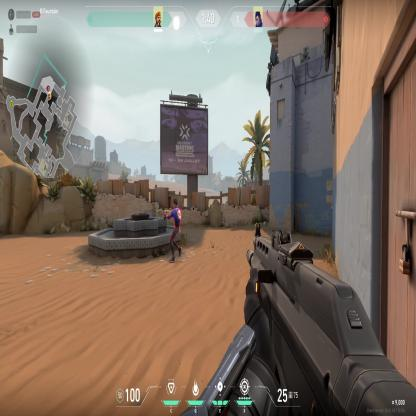enemy: (165, 197, 184, 263)
